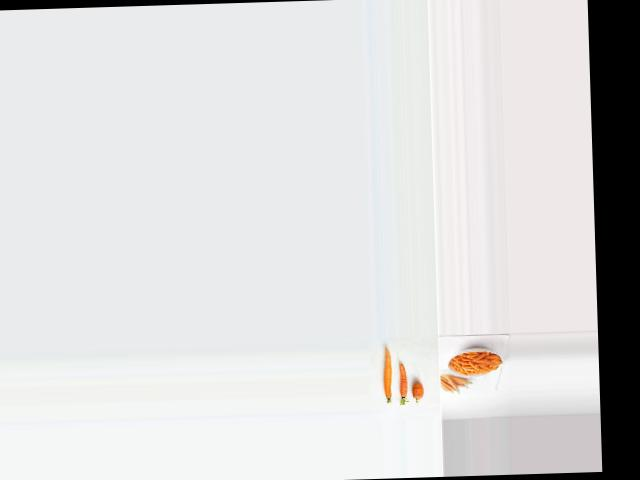carrot: (412, 375, 425, 403)
